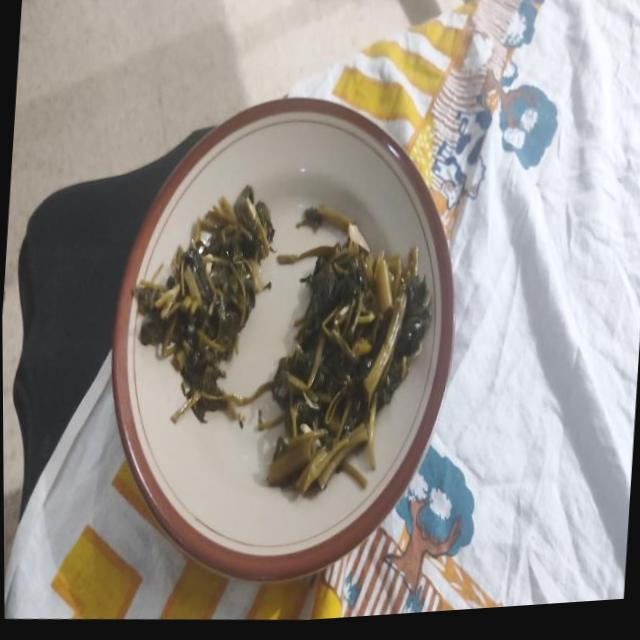tumis_kangkung: (266, 205, 430, 492), (135, 185, 274, 428)
